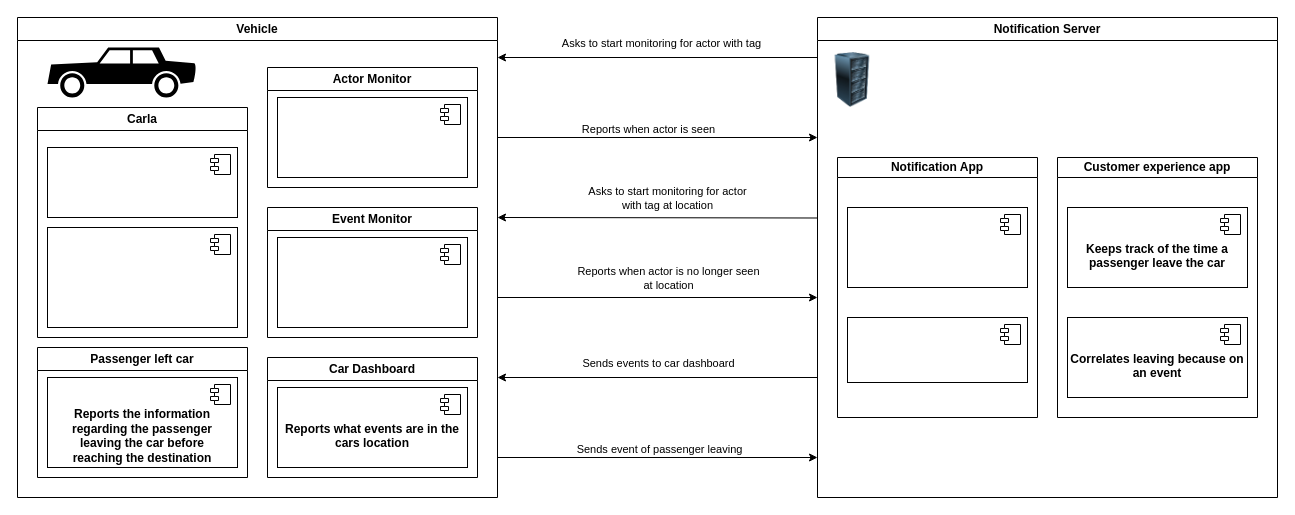
The diagram is 1295 pixels wide and 515 high, and some of its shapes have lost their labels. Here are the shapes that lost their labels. From the top down, the centre of each, then its label:
At (372,137): "Start watching for actors with specific tag".
At (142,182): "Ego-Location XYZ vector".
At (937,247): "Keeps track of desired actors to be monitored".
At (142,277): "Semantic Segmentation Color coded Image".
At (372,282): "Start watching for actors with specific tag at specific location".
At (937,349): "Keeps track of known events".
